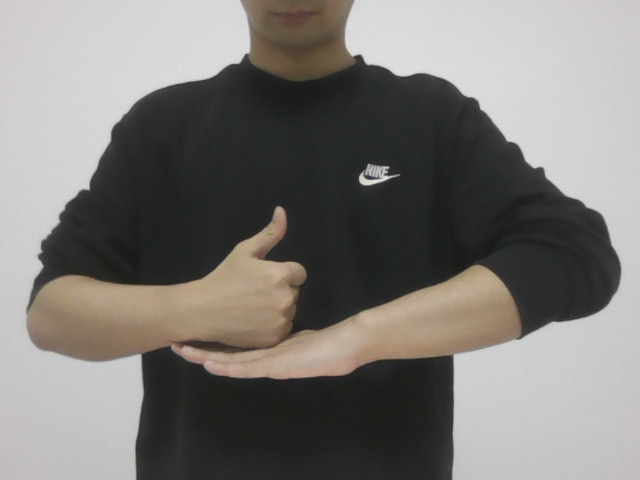new: (164, 195, 368, 388)
